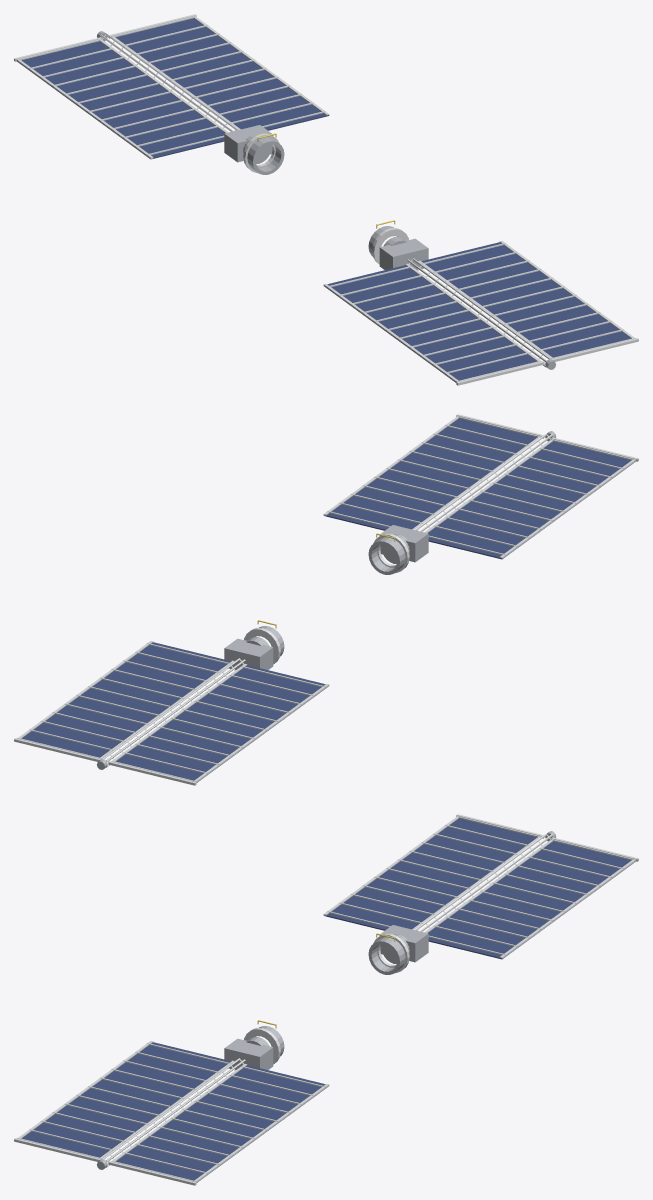
Rendered from solar_wings_pair_large.glb.
The picture shows the model from 3 angles, top to bottom: view 1: azimuth 30°, elevation 25°; view 2: azimuth 150°, elevation 25°; view 3: azimuth 330°, elevation 25°; orthographic projection.
Parts seen in each view (by area): view 1: solar-array-wing-deployed_3.002, solar-array-wing-deployed_3.001, solar-array-wing-deployed_1.001, solar-array-wing-deployed_1.002, array-gimbal.001, array-gimbal.002, solar-array-wing-deployed_0.002; view 2: solar-array-wing-deployed_3.001, solar-array-wing-deployed_3.002, solar-array-wing-deployed_1.002, solar-array-wing-deployed_1.001, array-gimbal.002, array-gimbal.001, solar-array-wing-deployed_0.001; view 3: solar-array-wing-deployed_3.002, solar-array-wing-deployed_3.001, solar-array-wing-deployed_1.001, solar-array-wing-deployed_1.002, array-gimbal.001, array-gimbal.002, solar-array-wing-deployed_0.002.
Boxes of the visible parts, x1,y1,x2,y2 form: solar-array-wing-deployed_3.002: (18, 18, 329, 159); solar-array-wing-deployed_3.001: (324, 242, 630, 382); solar-array-wing-deployed_1.001: (323, 228, 638, 385); solar-array-wing-deployed_1.002: (14, 14, 329, 173); array-gimbal.001: (379, 237, 428, 269); array-gimbal.002: (224, 125, 273, 163); solar-array-wing-deployed_0.002: (97, 31, 284, 174); solar-array-wing-deployed_3.001: (325, 418, 634, 559); solar-array-wing-deployed_3.002: (22, 642, 328, 782); solar-array-wing-deployed_1.002: (14, 628, 329, 785); solar-array-wing-deployed_1.001: (323, 414, 638, 573); array-gimbal.002: (224, 637, 273, 669); array-gimbal.001: (379, 525, 428, 563); solar-array-wing-deployed_0.001: (368, 431, 555, 574); solar-array-wing-deployed_3.002: (325, 818, 634, 959); solar-array-wing-deployed_3.001: (22, 1042, 328, 1182); solar-array-wing-deployed_1.001: (14, 1028, 329, 1185); solar-array-wing-deployed_1.002: (323, 814, 638, 973); array-gimbal.001: (224, 1037, 273, 1069); array-gimbal.002: (379, 925, 428, 963); solar-array-wing-deployed_0.002: (368, 831, 555, 974).
Bounding box in the file's own units: 5.68 × 1.21 × 24.52.
